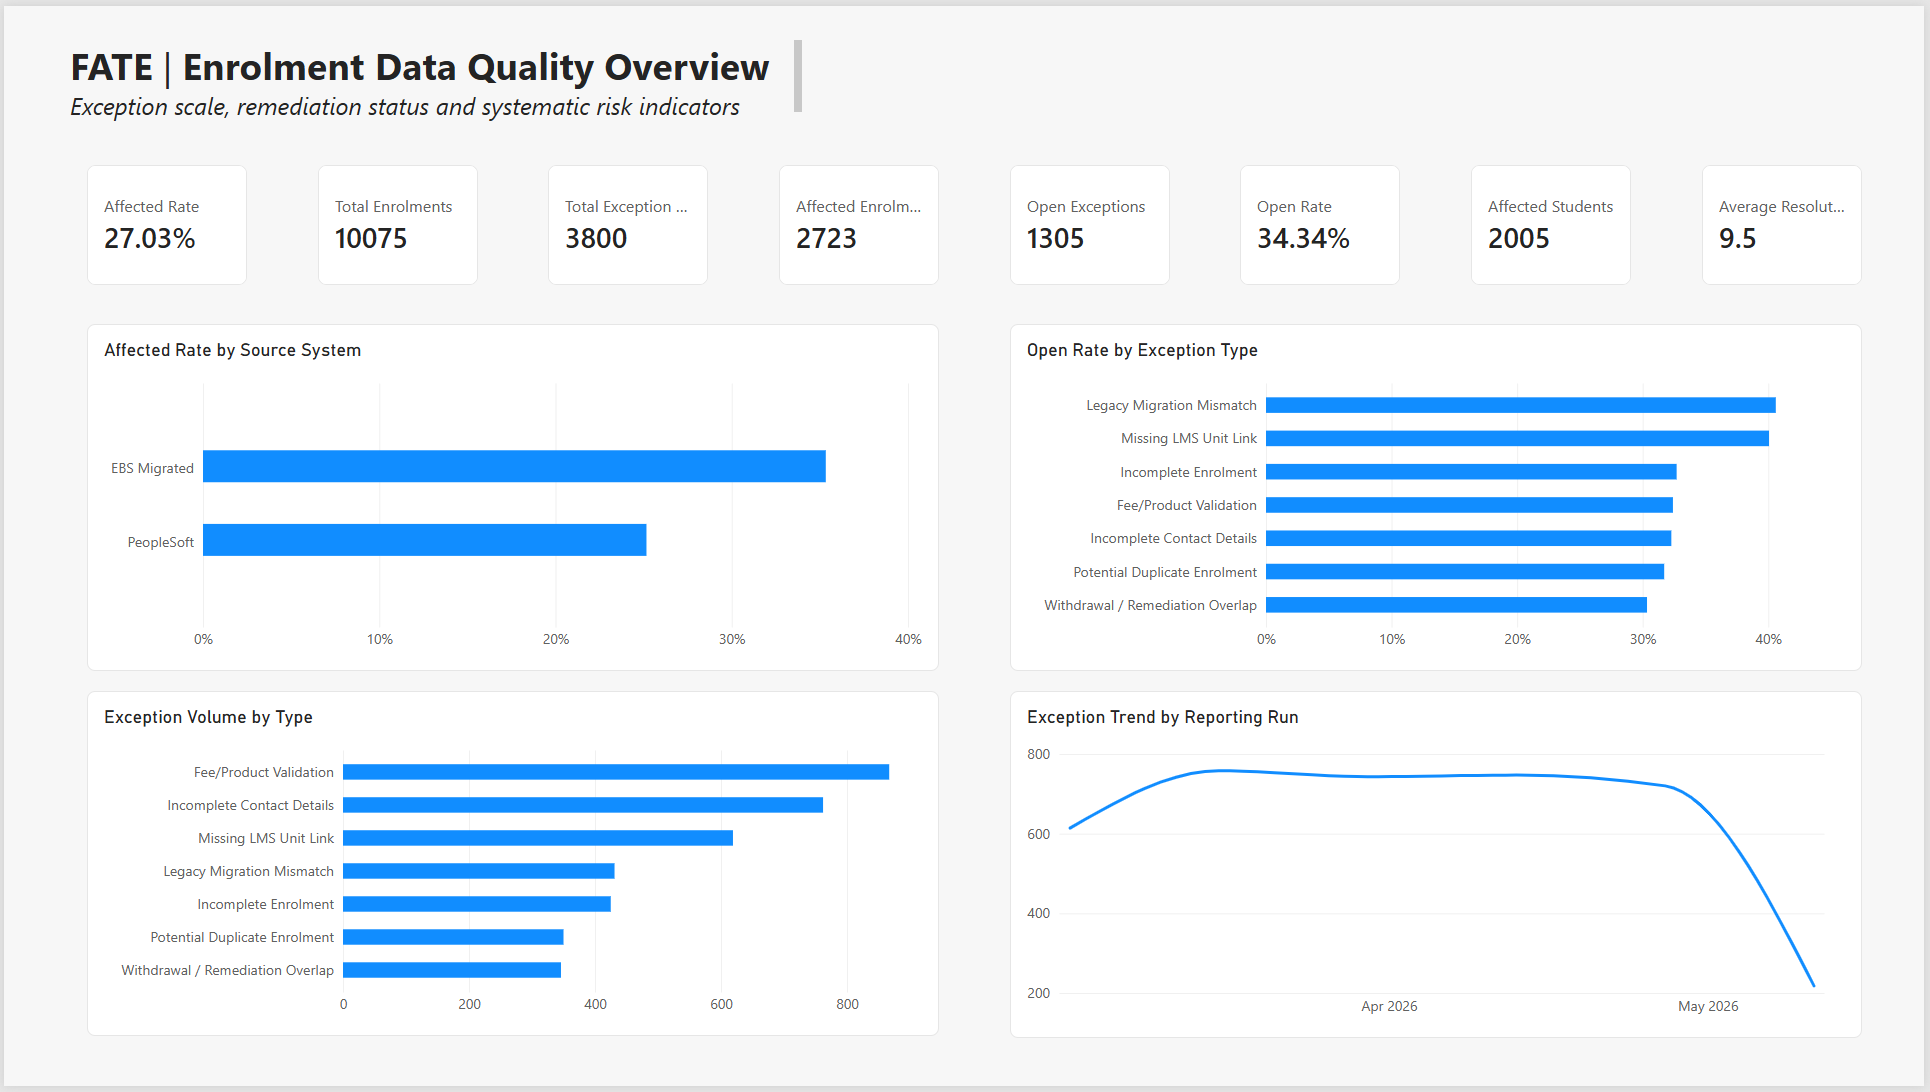

This screenshot's page, from the dashboard's own definition file:
{"tool":"powerbi","page":{"name":"Data Quality Overview","canvas":[1920,1080],"ordinal":0},"visuals":[{"type":"cardVisual","fields":{"Data":["Enrolments.Affected Rate"]},"box":[82.9,158.8,160,120],"z":0},{"type":"cardVisual","fields":{"Data":["Enrolments.Total Enrolments"]},"box":[313.6,158.8,160,120],"z":1000},{"type":"cardVisual","fields":{"Data":["Exceptions.Total Exception Occurrences"]},"box":[544.4,158.8,160,120],"z":2000},{"type":"cardVisual","fields":{"Data":["Exceptions.Open Exceptions"]},"box":[1005.8,158.8,160,120],"z":3000},{"type":"cardVisual","fields":{"Data":["Exceptions.Open Rate"]},"box":[1236.5,158.8,160,120],"z":4000},{"type":"cardVisual","fields":{"Data":["Exceptions.Affected Students"]},"box":[1467.2,158.8,160,120],"z":5000},{"type":"cardVisual","fields":{"Data":["Enrolments.Affected Enrolments"]},"box":[775.1,158.8,160,120],"z":6000},{"type":"clusteredBarChart","title":"Exception Volume by Type","fields":{"Category":["Exceptions.ExceptionType"],"Y":["Exceptions.Total Exception Occurrences"]},"box":[82.9,684.5,851.8,345.8],"z":7000},{"type":"clusteredBarChart","title":"Affected Rate by Source System","fields":{"Category":["Enrolments.SourceSystem"],"Y":["Enrolments.Affected Rate"]},"box":[82.9,317.7,851.8,347.2],"z":8000},{"type":"lineChart","title":"Exception Trend by Reporting Run","fields":{"Category":["Exceptions.ReportDate"],"Y":["Exceptions.Total Exception Occurrences"]},"box":[1006.4,684.5,851.8,347.2],"z":9000},{"type":"clusteredBarChart","title":"Open Rate by Exception Type","fields":{"Category":["Exceptions.ExceptionType"],"Y":["Exceptions.Open Rate"]},"box":[1006.4,317.7,851.8,347.2],"z":10000},{"type":"cardVisual","fields":{"Data":["Exceptions.Average Resolution Days"]},"box":[1697.9,158.8,160,120],"z":11000},{"type":"textbox","box":[66.1,33.7,732.3,85.7],"z":12000}]}

Visuals, with their boxes in screenshot pixels (x1, y1, x2, y2), scaled from the page's 1920x1080 canvas onto the 1930x1092 screenshot:
cardVisual - Enrolments.Affected Rate: [x1=83, y1=161, x2=244, y2=282]
cardVisual - Enrolments.Total Enrolments: [x1=315, y1=161, x2=476, y2=282]
cardVisual - Exceptions.Total Exception Occurrences: [x1=547, y1=161, x2=708, y2=282]
cardVisual - Exceptions.Open Exceptions: [x1=1011, y1=161, x2=1172, y2=282]
cardVisual - Exceptions.Open Rate: [x1=1243, y1=161, x2=1404, y2=282]
cardVisual - Exceptions.Affected Students: [x1=1475, y1=161, x2=1636, y2=282]
cardVisual - Enrolments.Affected Enrolments: [x1=779, y1=161, x2=940, y2=282]
"Exception Volume by Type" clusteredBarChart: [x1=83, y1=692, x2=940, y2=1042]
"Affected Rate by Source System" clusteredBarChart: [x1=83, y1=321, x2=940, y2=672]
"Exception Trend by Reporting Run" lineChart: [x1=1012, y1=692, x2=1868, y2=1043]
"Open Rate by Exception Type" clusteredBarChart: [x1=1012, y1=321, x2=1868, y2=672]
cardVisual - Exceptions.Average Resolution Days: [x1=1707, y1=161, x2=1868, y2=282]
textbox: [x1=66, y1=34, x2=803, y2=121]
